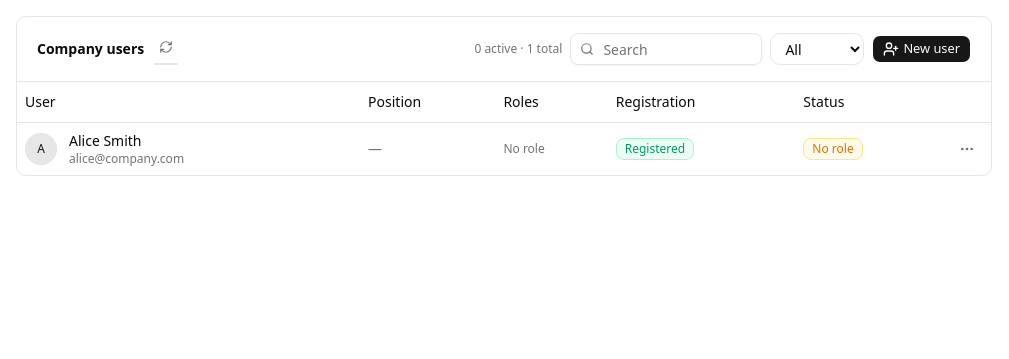
Scenario: CompanyUsersTable — self row actions › shows all actions for another user's row
Expected: the text "Alice Smith" is shown, [69,130,142,150]
Step 1. Click the button named "Actions for Alice Smith" → (967, 148), box [951,132,983,164]
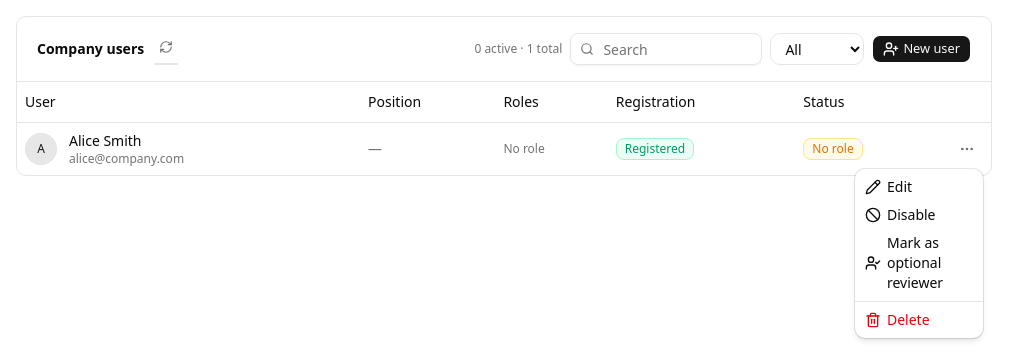
Expected: the menu item "Edit" is shown, [865,177,912,196]
Expected: the menu item "Disable" is shown, [865,205,936,224]
Expected: the menu item "Delete" is shown, [865,310,930,329]
